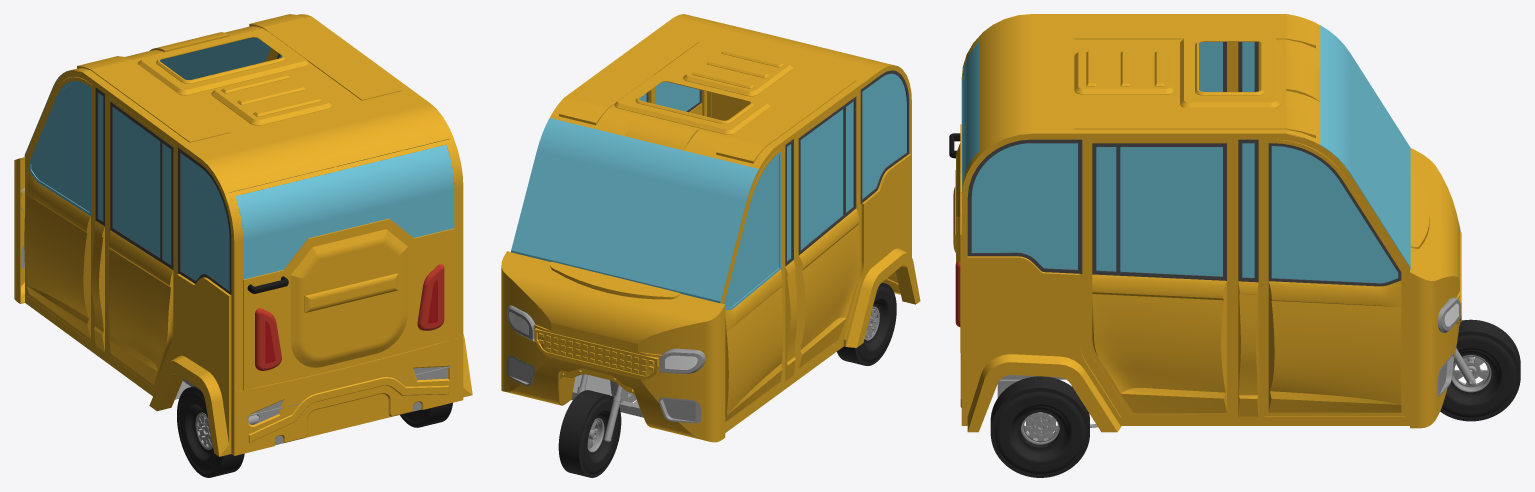
Rendered from TukTuk v19.fbx.
3 renders of one model, left to right at view 1: azimuth 30°, elevation 25°; view 2: azimuth 150°, elevation 25°; view 3: azimuth 270°, elevation 25°, orthographic. The views are drawn at different scales.
Visible parts, largest first — view 1: Body1 (×12), Body2 (×4), Body4 (×3), Body6 (×2), Body5 (×2), Body3 (×4), Body7; view 2: Body1 (×13), Body2 (×4), Body4 (×3), Body5 (×3), Body3 (×3), Body6; view 3: Body1 (×13), Body2 (×3), Body4 (×4), Body5 (×2), Body3 (×3), Body6 (×2).
Boxes of the visible parts, <box> form: Body1 (×12): <box>14,14,472,477</box>; Body2 (×4): <box>24,170,281,384</box>; Body4 (×3): <box>31,83,231,294</box>; Body6 (×2): <box>98,93,458,454</box>; Body5 (×2): <box>163,143,229,290</box>; Body3 (×4): <box>29,81,391,437</box>; Body7: <box>248,377,448,442</box>; Body1 (×13): <box>501,14,920,477</box>; Body2 (×4): <box>659,208,859,421</box>; Body4 (×3): <box>725,70,909,307</box>; Body5 (×3): <box>655,73,906,212</box>; Body3 (×3): <box>724,96,856,309</box>; Body6: <box>787,144,791,260</box>; Body1 (×13): <box>953,14,1520,477</box>; Body2 (×3): <box>1092,274,1401,416</box>; Body4 (×4): <box>967,42,1398,283</box>; Body5 (×2): <box>971,143,1116,271</box>; Body3 (×3): <box>1092,139,1401,286</box>; Body6 (×2): <box>1242,42,1254,277</box>.
Size of the model in its own units: 1560 by 1913 by 2844.
